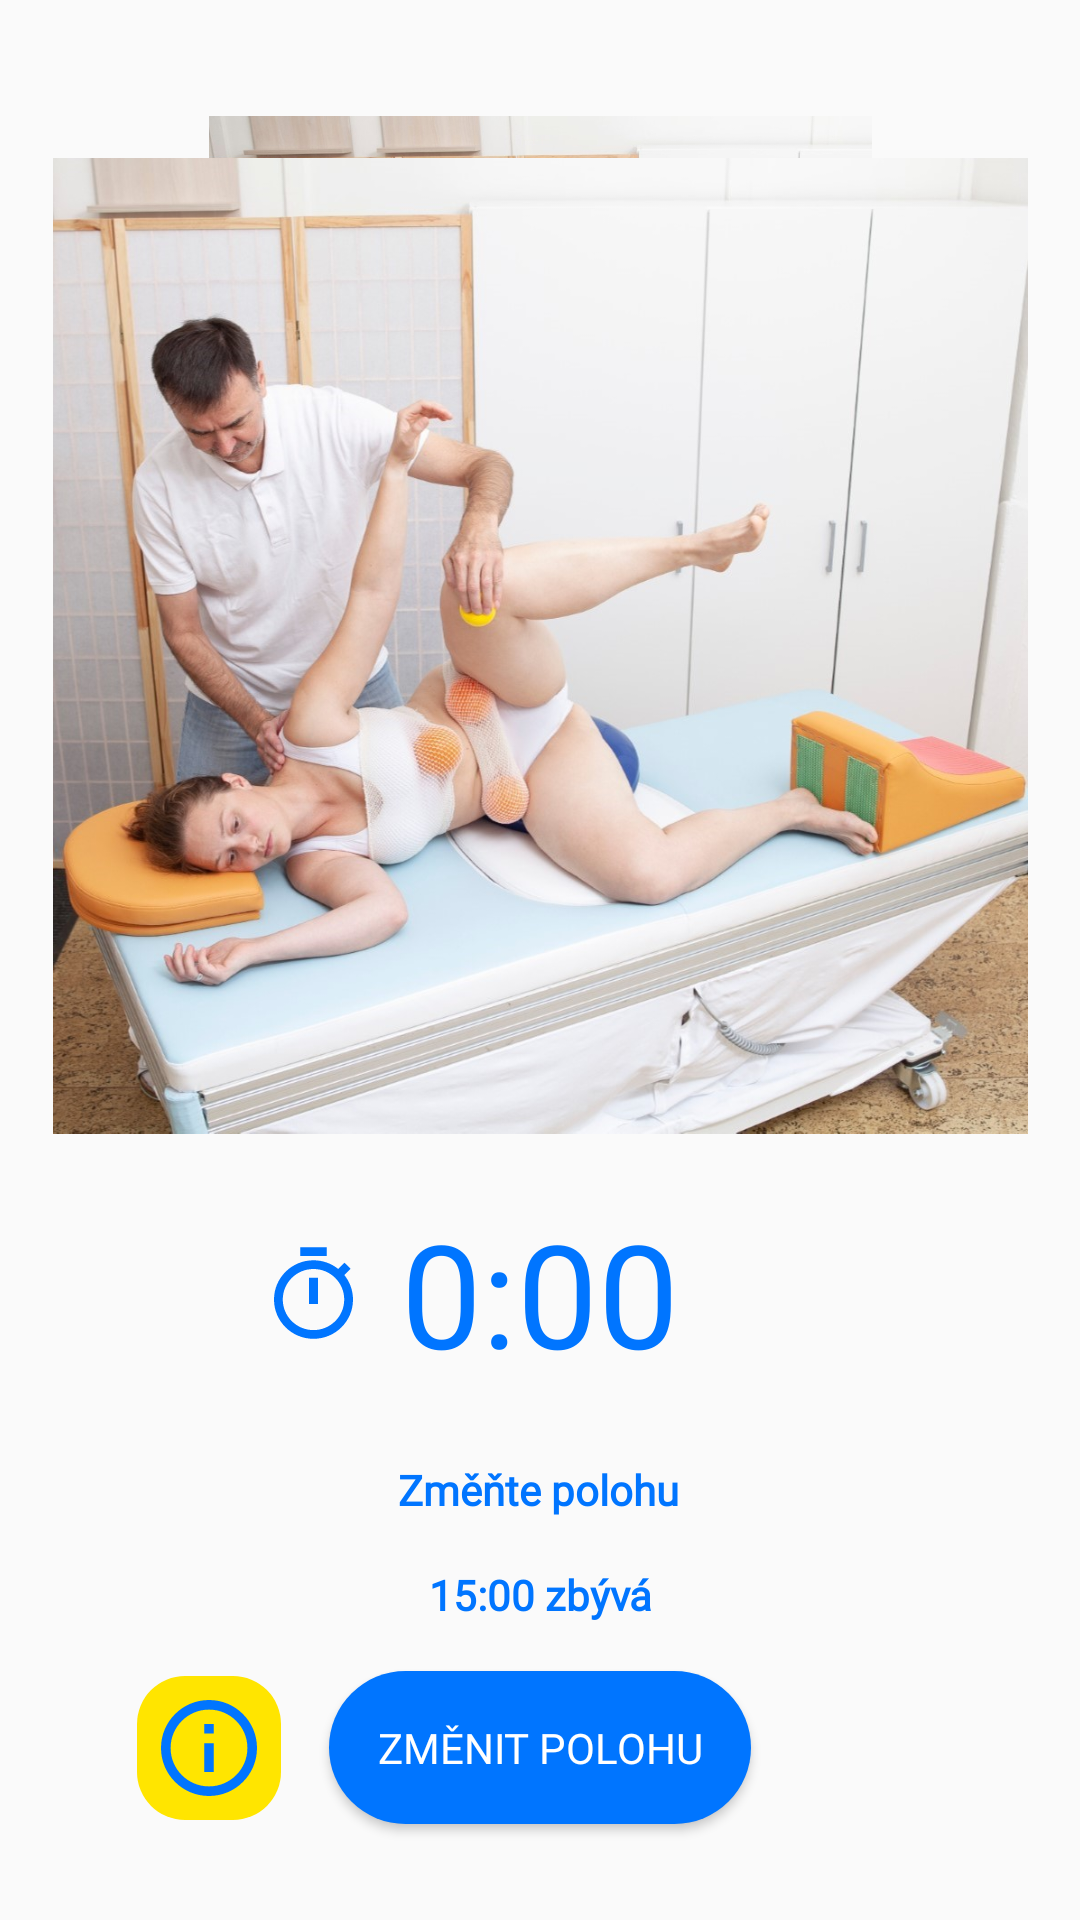

Where to tap for icons on this 1080 x 1920 app screen, as (x,y):
info: (209,1748)
timer: (313,1293)
